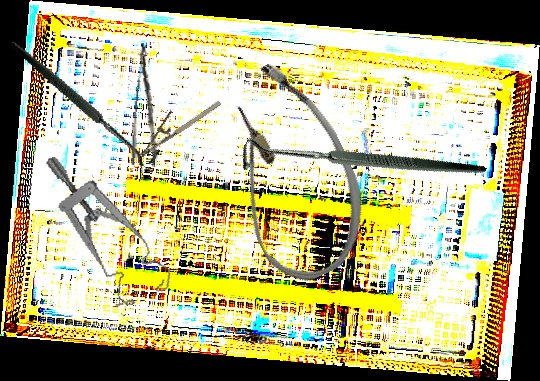Cannula: (192, 50, 388, 294)
Dressing Forceps: (128, 47, 168, 167)
Hook Surgical: (233, 50, 487, 281), (9, 7, 163, 195)
Needle Holder: (127, 86, 223, 160)
Speculum: (43, 136, 177, 317)
